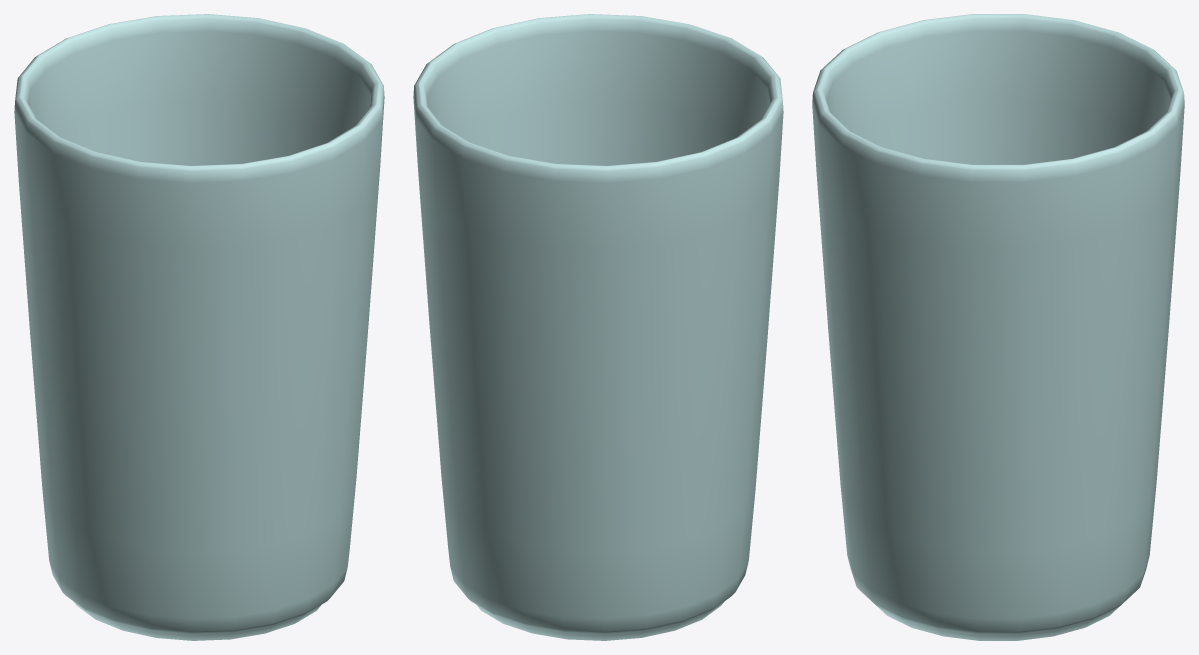
Rendered from cup.fbx.
3 views of the same model, side by side, from view 1: azimuth 30°, elevation 25°; view 2: azimuth 150°, elevation 25°; view 3: azimuth 270°, elevation 25° (orthographic).
Visible parts, largest first — view 1: cup; view 2: cup; view 3: cup.
Boxes of the visible parts, left/top/right/bottom form: cup: left=14, top=14, right=384, bottom=640; cup: left=413, top=14, right=783, bottom=640; cup: left=812, top=14, right=1184, bottom=640.
Bounding box in the file's own units: 167 × 247 × 168.
